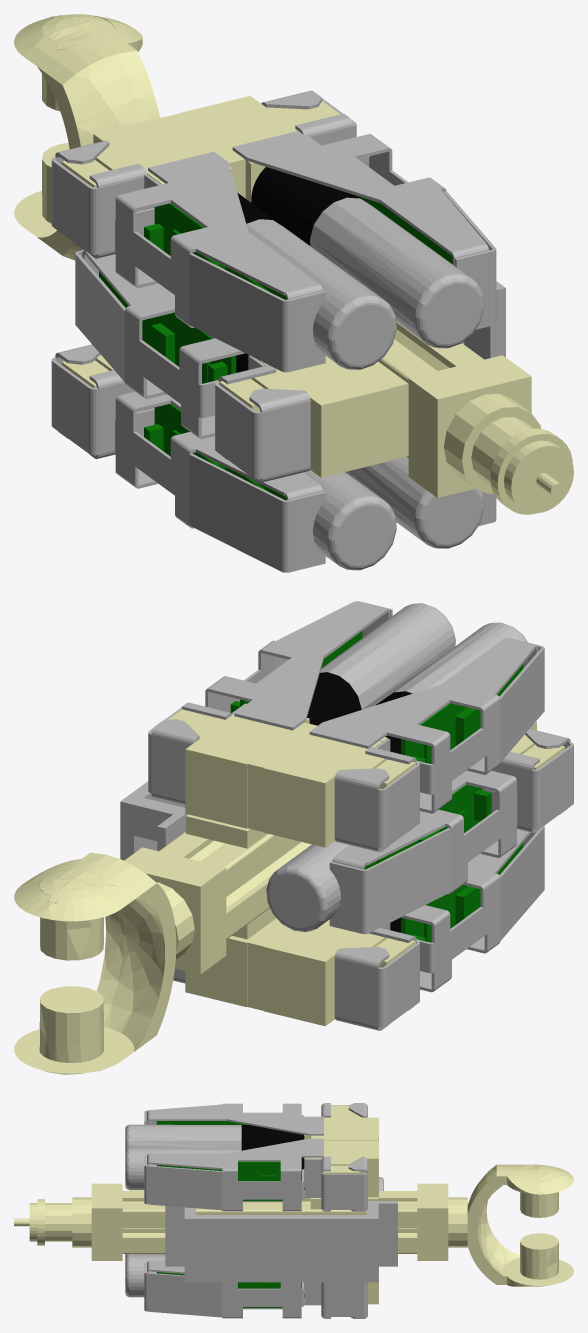
Rendered from LARM_HUMERUS_LINK_mesh.dae.
3 views of the same model, one above another, from view 1: azimuth 30°, elevation 25°; view 2: azimuth 150°, elevation 25°; view 3: azimuth 270°, elevation 25° (orthographic). The views are drawn at different scales.
Parts seen in each view (by area): view 1: LARM_HUMERUS_LINK (×29); view 2: LARM_HUMERUS_LINK (×28); view 3: LARM_HUMERUS_LINK (×24).
Boxes of the visible parts, left/top/right/bottom form: LARM_HUMERUS_LINK (×29): left=14, top=14, right=573, bottom=572; LARM_HUMERUS_LINK (×28): left=14, top=601, right=573, bottom=1074; LARM_HUMERUS_LINK (×24): left=14, top=1103, right=573, bottom=1318.
Size of the model in its own units: 0.0925 by 0.085 by 0.2888.
